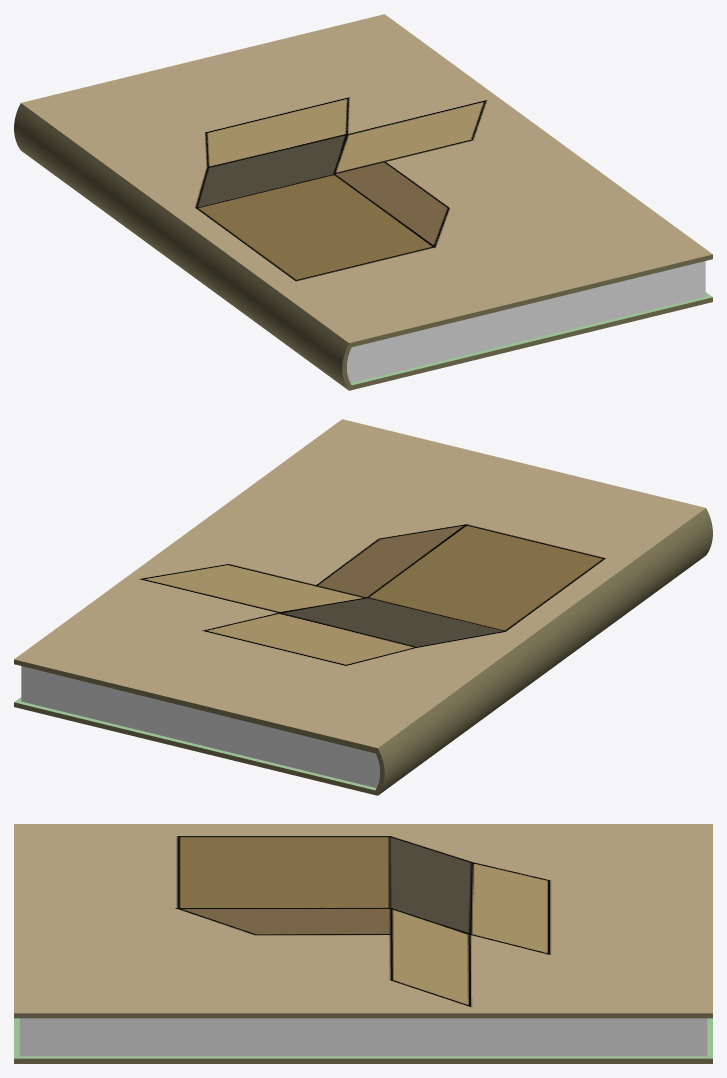
The model's file is hacker book - final.fbx.
3 renders of one model, top to bottom at view 1: azimuth 30°, elevation 25°; view 2: azimuth 150°, elevation 25°; view 3: azimuth 270°, elevation 25°, orthographic. The views are drawn at different scales.
Visible parts, largest first — view 1: book_shape:polySurface1; view 2: book_shape:polySurface1; view 3: book_shape:polySurface1.
Boxes of the visible parts, x1,y1,x2,y2 form: book_shape:polySurface1: [14, 14, 712, 390]; book_shape:polySurface1: [14, 419, 712, 795]; book_shape:polySurface1: [14, 824, 712, 1063].
Size of the model in its own units: 16.3 by 2 by 25.
